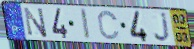4: (129, 10, 150, 44), (51, 7, 69, 41)
C: (97, 10, 122, 41)
I: (79, 7, 92, 41)
J: (153, 11, 172, 44)
N: (22, 6, 49, 39)
